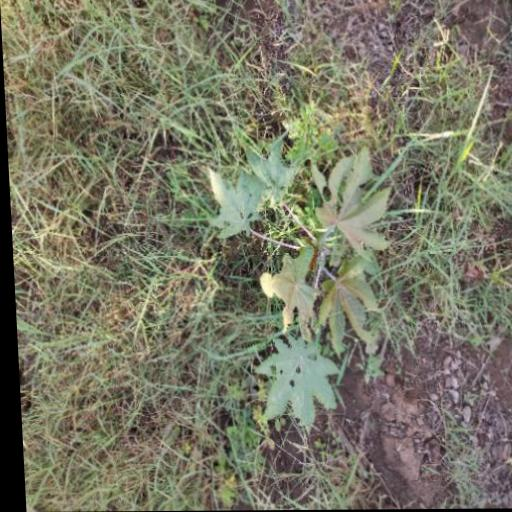weed: (183, 134, 436, 434)
